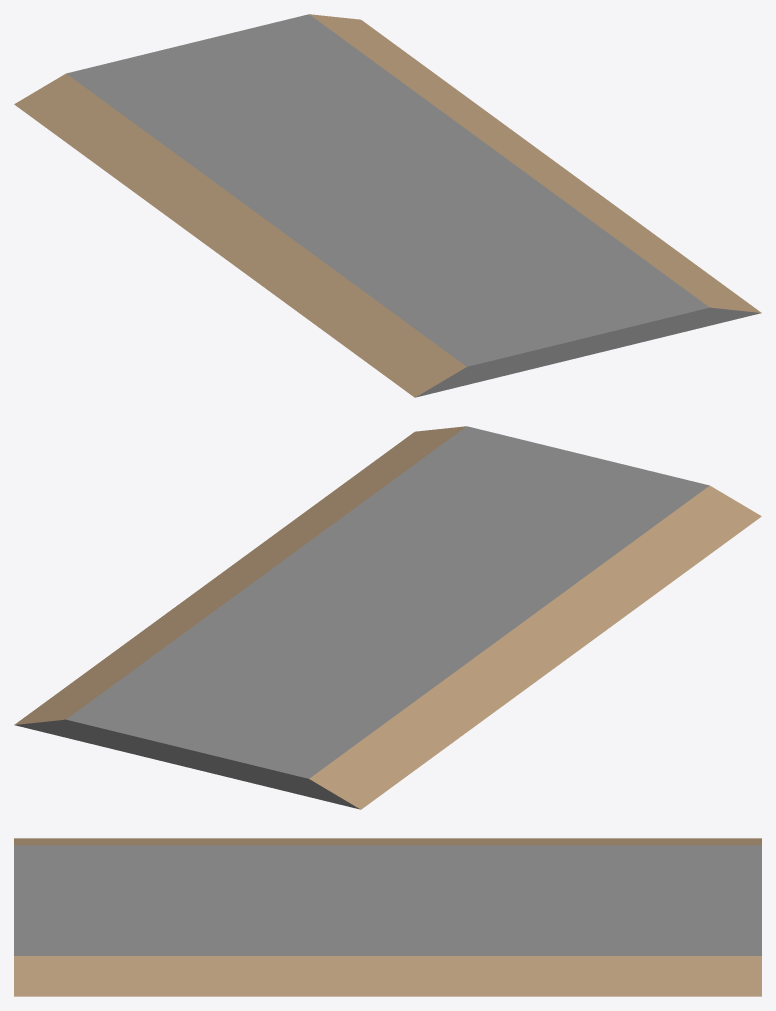
File: SM_Path_Long.fbx
3 renders of one model, top to bottom at view 1: azimuth 30°, elevation 25°; view 2: azimuth 150°, elevation 25°; view 3: azimuth 270°, elevation 25°, orthographic. The views are drawn at different scales.
Parts seen in each view (by area): view 1: SM_Path_Long; view 2: SM_Path_Long; view 3: SM_Path_Long.
Part boxes in pixels (bbox=[...]): SM_Path_Long: bbox=[14, 14, 761, 397]; SM_Path_Long: bbox=[14, 426, 761, 809]; SM_Path_Long: bbox=[14, 838, 761, 996].
Bounding box in the file's own units: 144 × 7.2 × 288.
